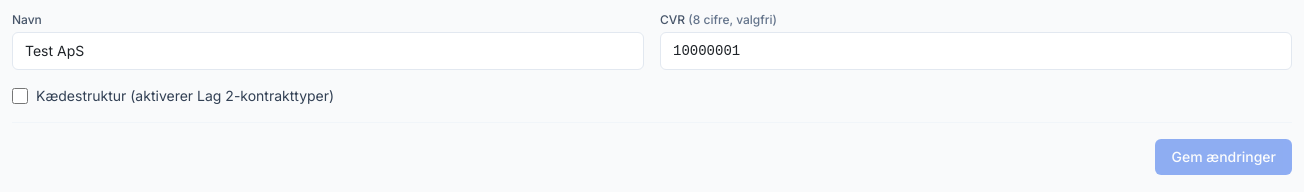
OrganizationForm › aktiverer submit når navnet ændres
Replace the text in the field showing "Test ApS" with "Test ApS 2": (328,51) top-left (12, 32), bottom-right (644, 70)
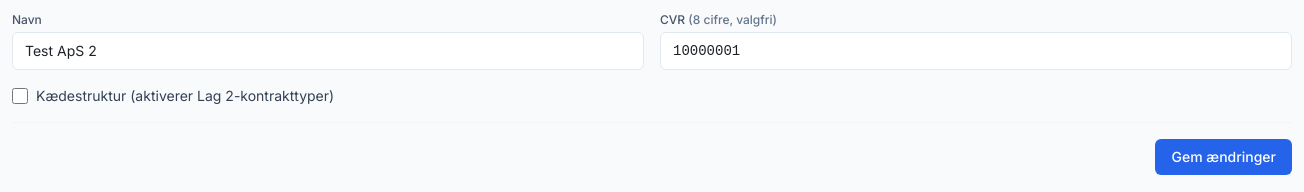
Now the button "Gem ændringer" is enabled, box top-left (1156, 139), bottom-right (1292, 175)
